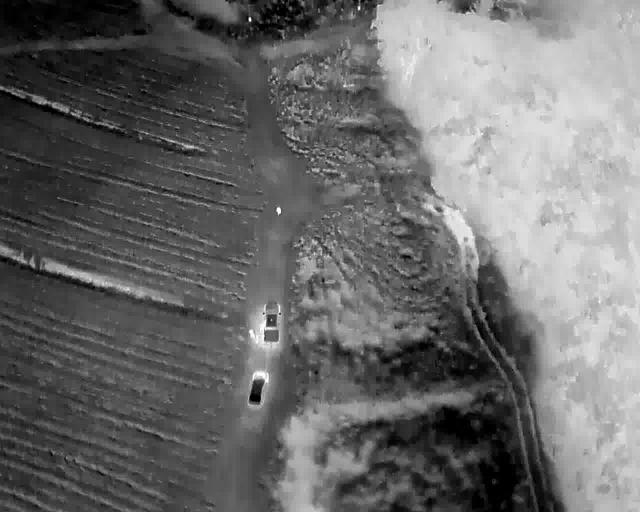car: (260, 300, 282, 345), (249, 369, 267, 407)
person: (257, 322, 264, 334), (254, 333, 260, 345), (248, 329, 254, 341), (275, 206, 281, 216)
